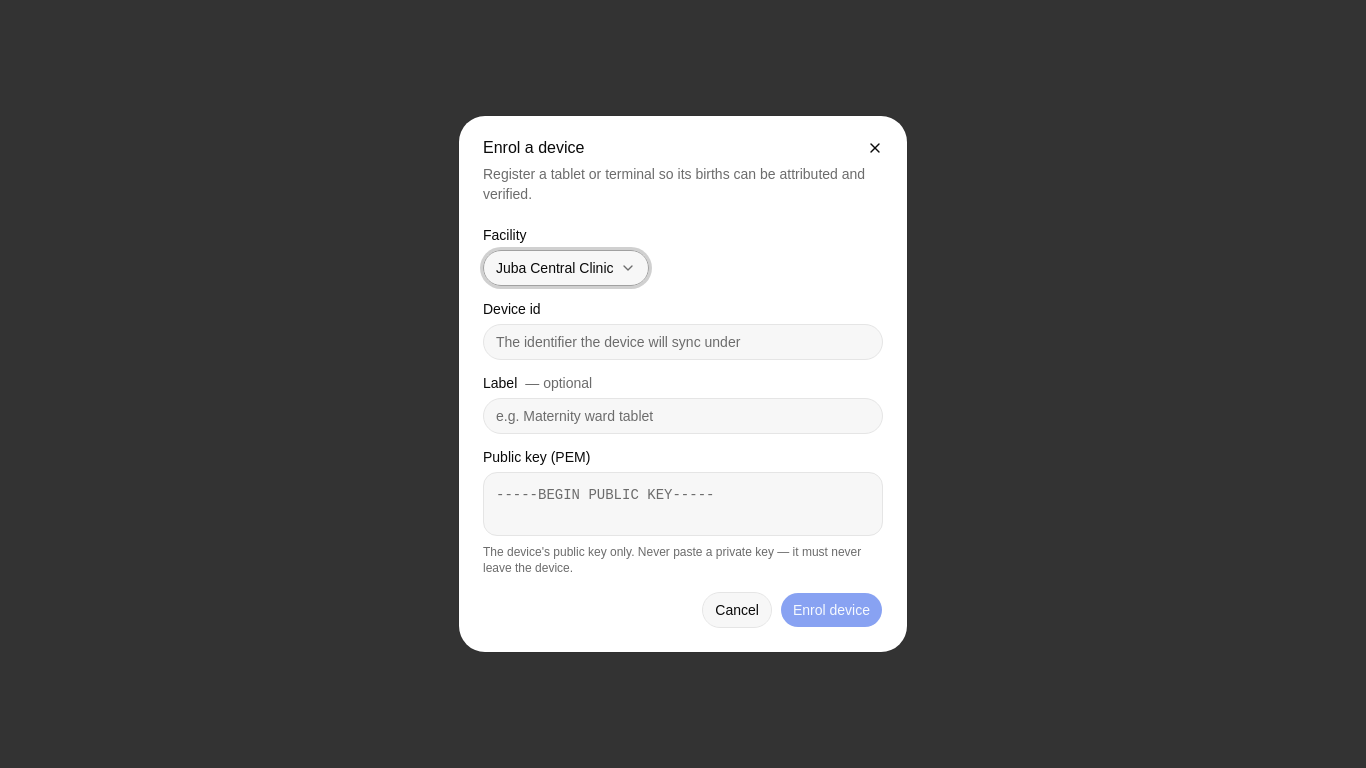
Scenario: EnrolDeviceDialog › surfaces the refusal of a private key against the key field
Type "tablet-003" into the field labelled "Device id".
click(683, 342); type("tablet-003")  # box [483,324,883,360]
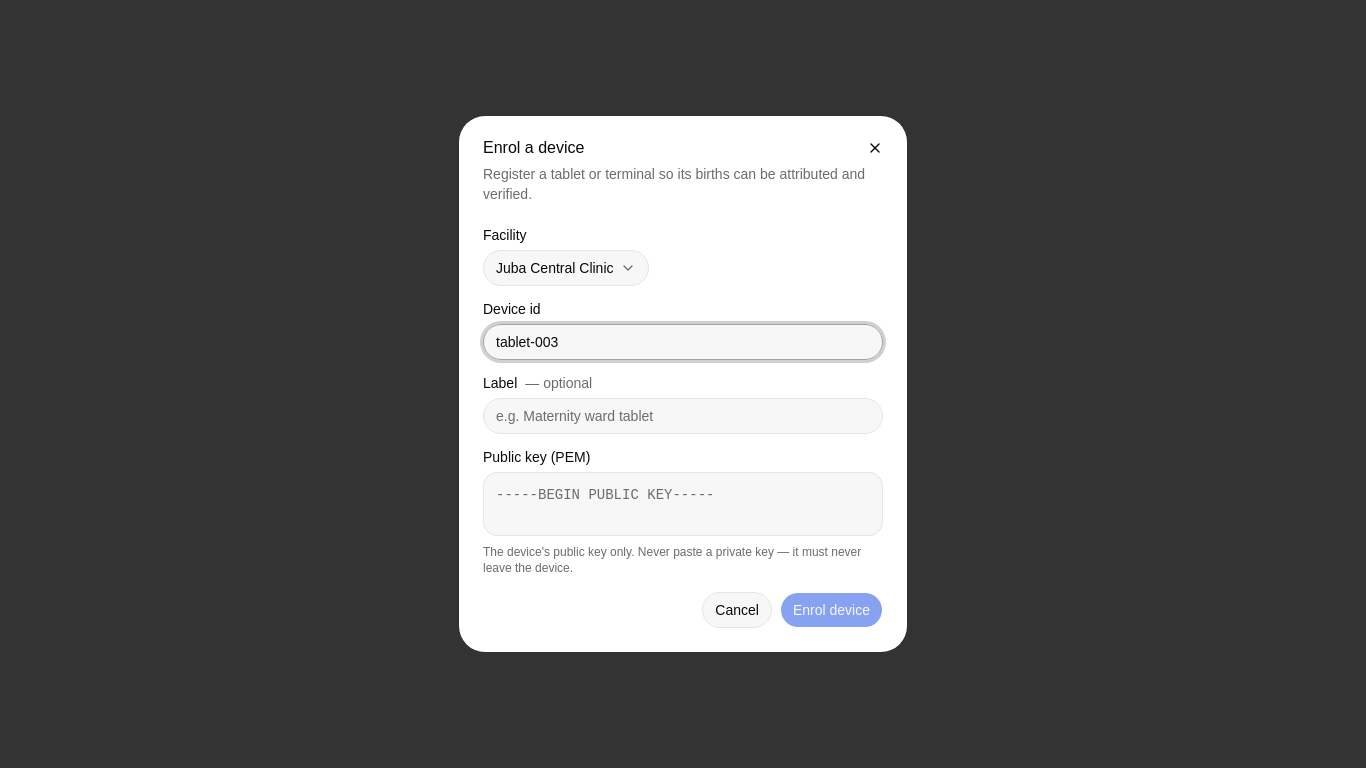
Type "-----BEGIN PRIVATE KEY-----" into the text box labelled "Public key (PEM)".
click(683, 504); type("-----BEGIN PRIVATE KEY-----")  # box [483,472,883,536]
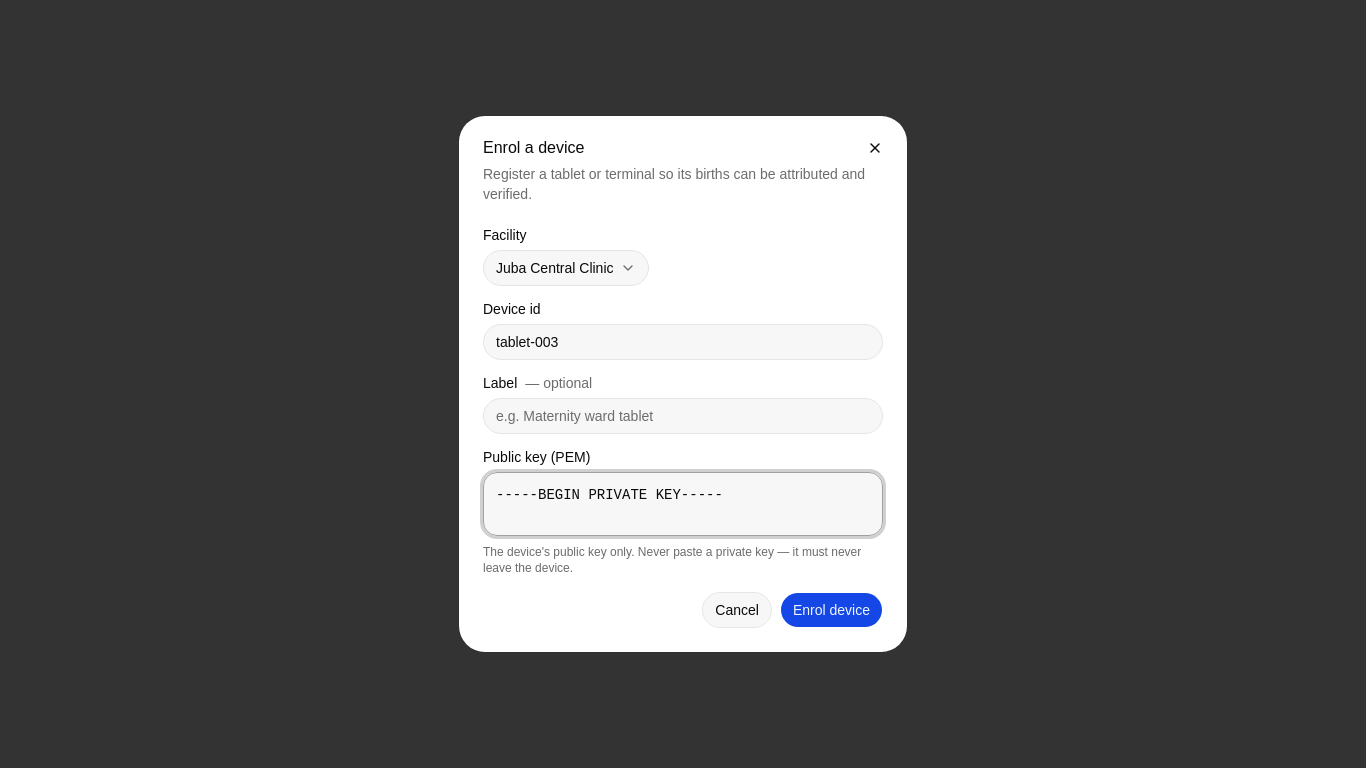
Click the button "Enrol device".
click(832, 610)  # box [780,592,883,628]
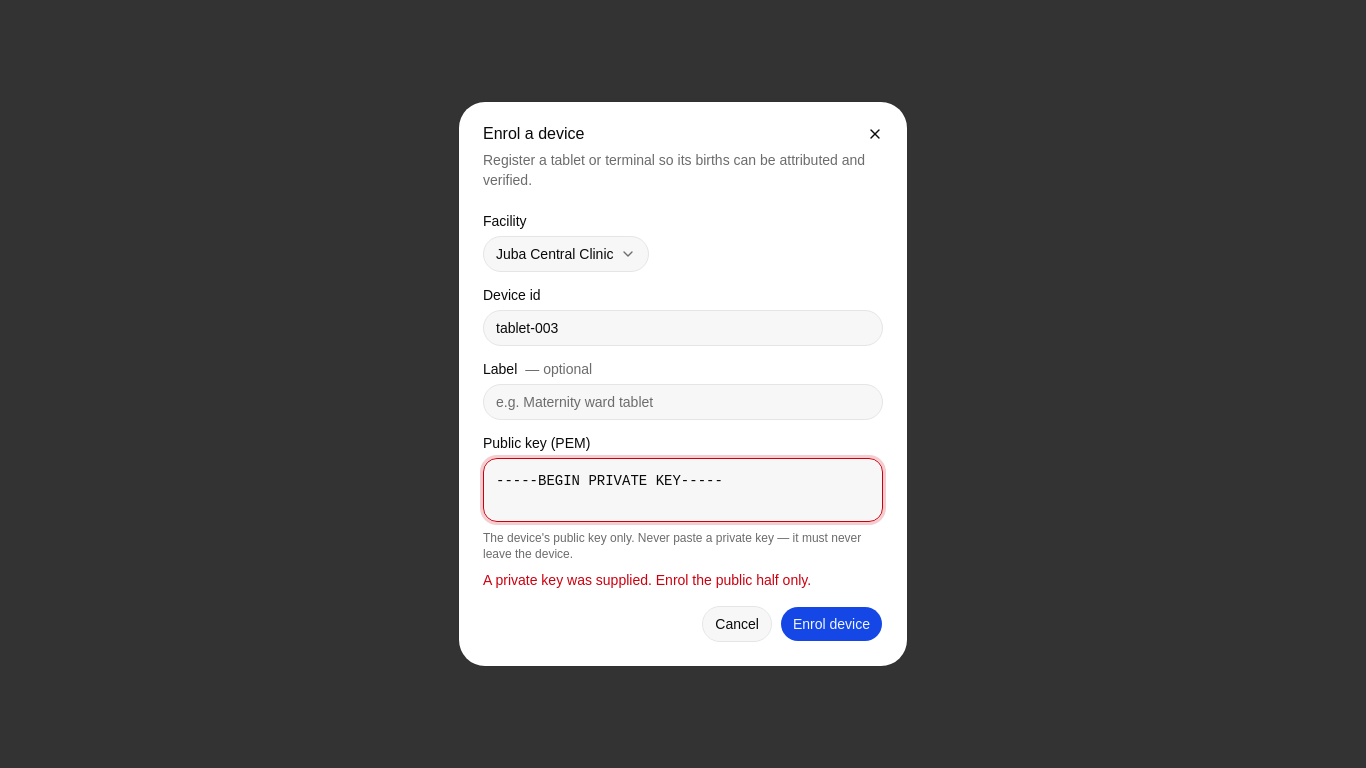
Now the text "A private key was supplied. Enrol the public half only." is shown, box [483,572,811,588]
